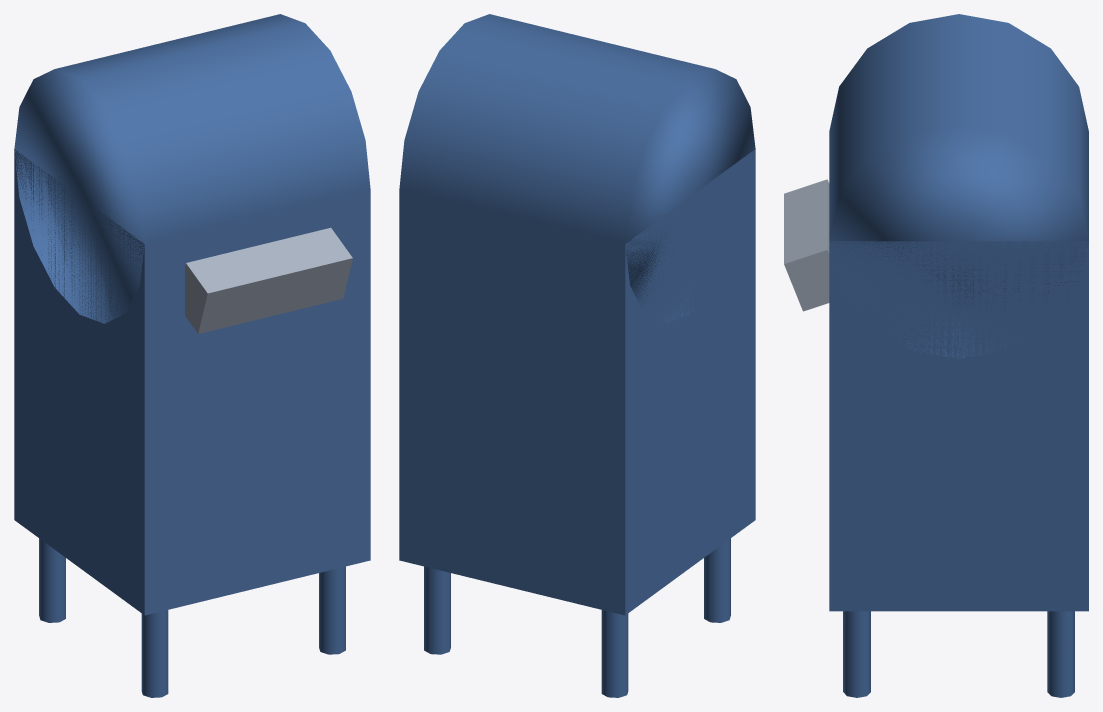
File: prop_city_mailbox.glb
3 views of the same model, side by side, from view 1: azimuth 30°, elevation 25°; view 2: azimuth 150°, elevation 25°; view 3: azimuth 270°, elevation 25° (orthographic).
Parts seen in each view (by area): view 1: primary_color, chute; view 2: primary_color; view 3: primary_color, chute.
Boxes of the visible parts, <box> form: primary_color: <box>14,14,370,697</box>; chute: <box>185,227,352,333</box>; primary_color: <box>399,14,755,697</box>; primary_color: <box>829,14,1088,697</box>; chute: <box>784,179,829,311</box>.
Bounding box in the file's own units: 0.56 × 1.38 × 0.6575.
Materials: 2 (2 with a texture image).
